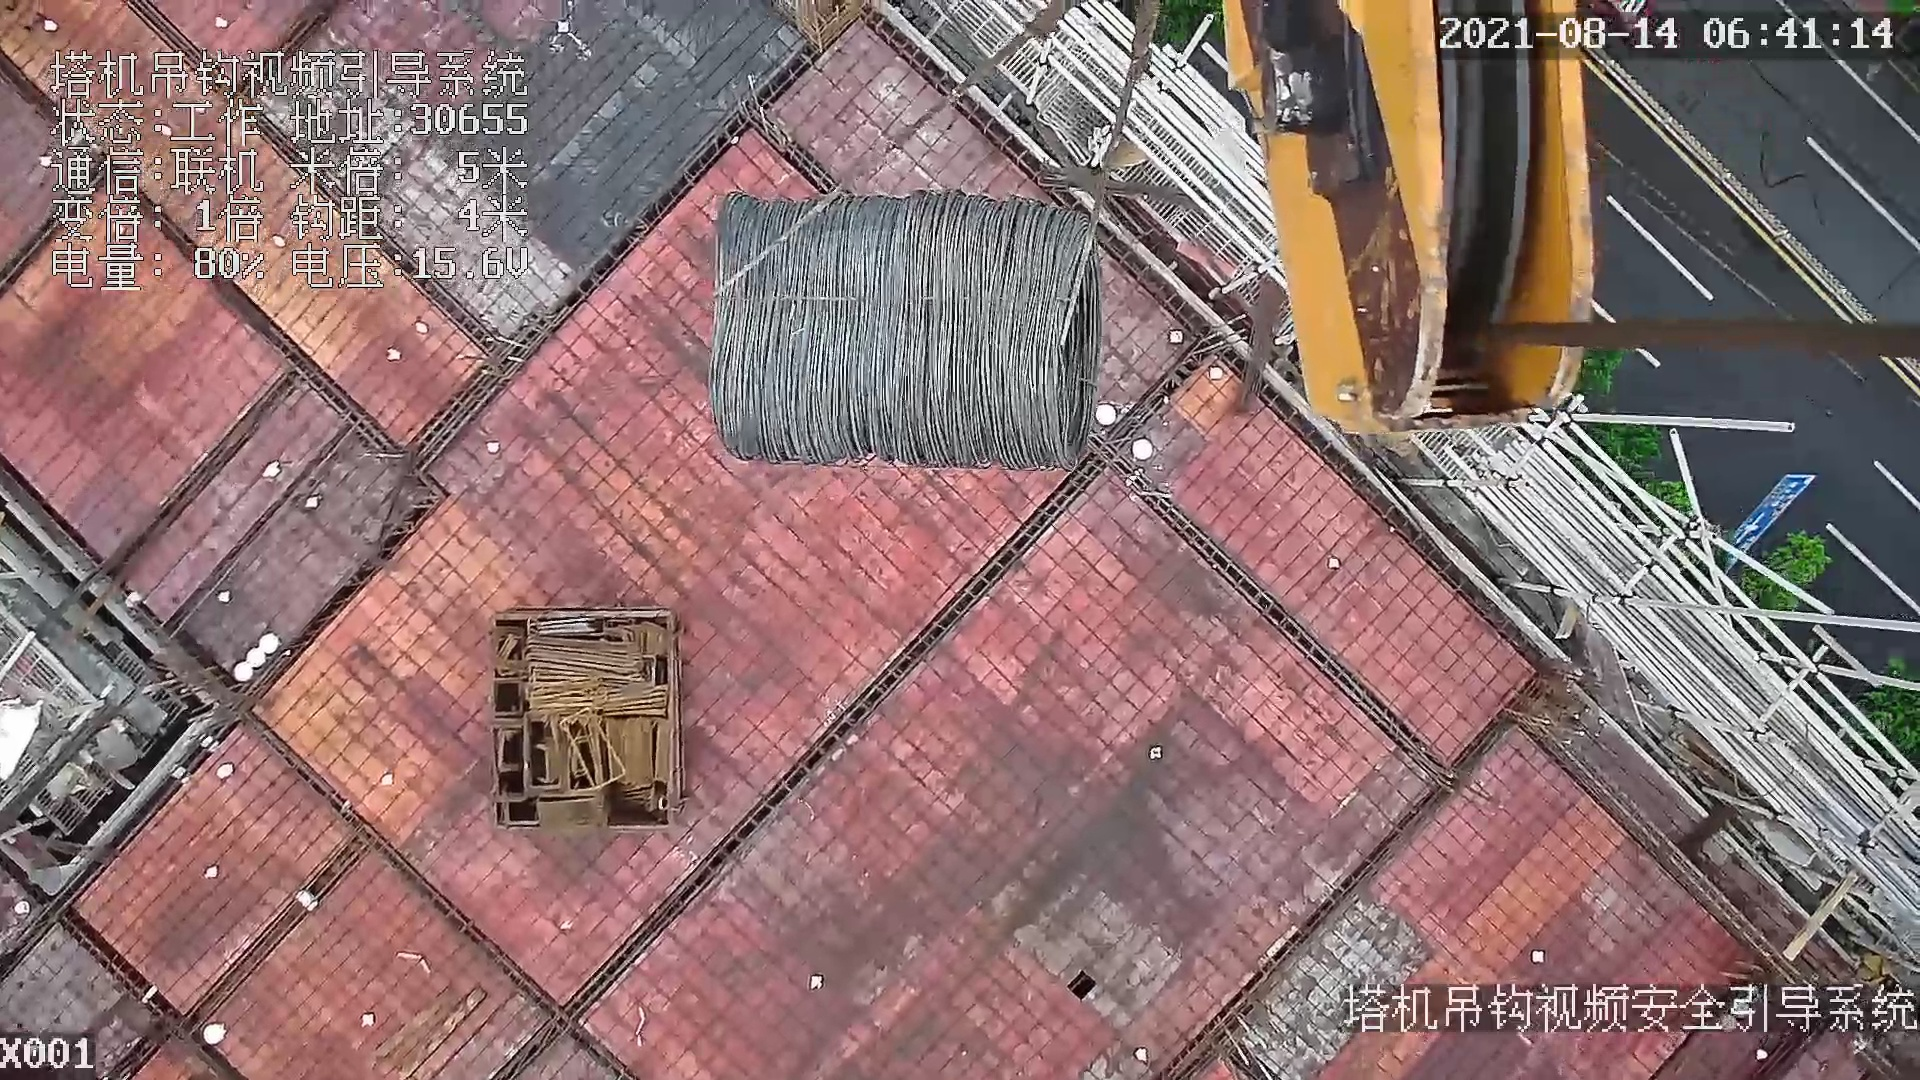hook: (1168, 1, 1613, 454)
